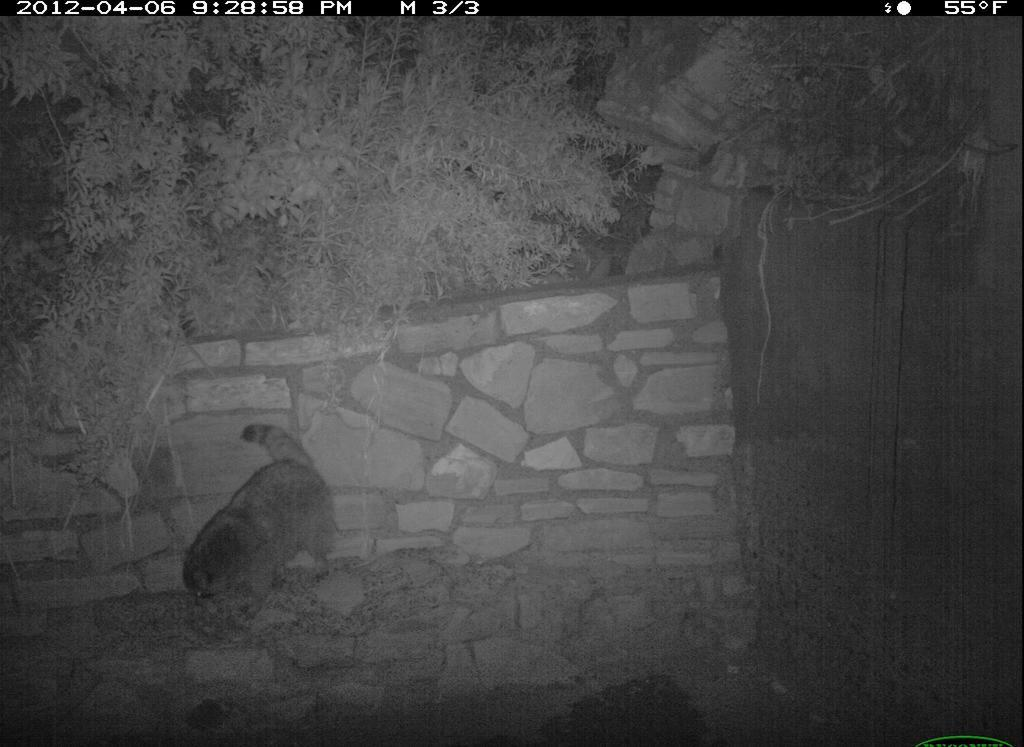raccoon: (175, 414, 346, 638)
